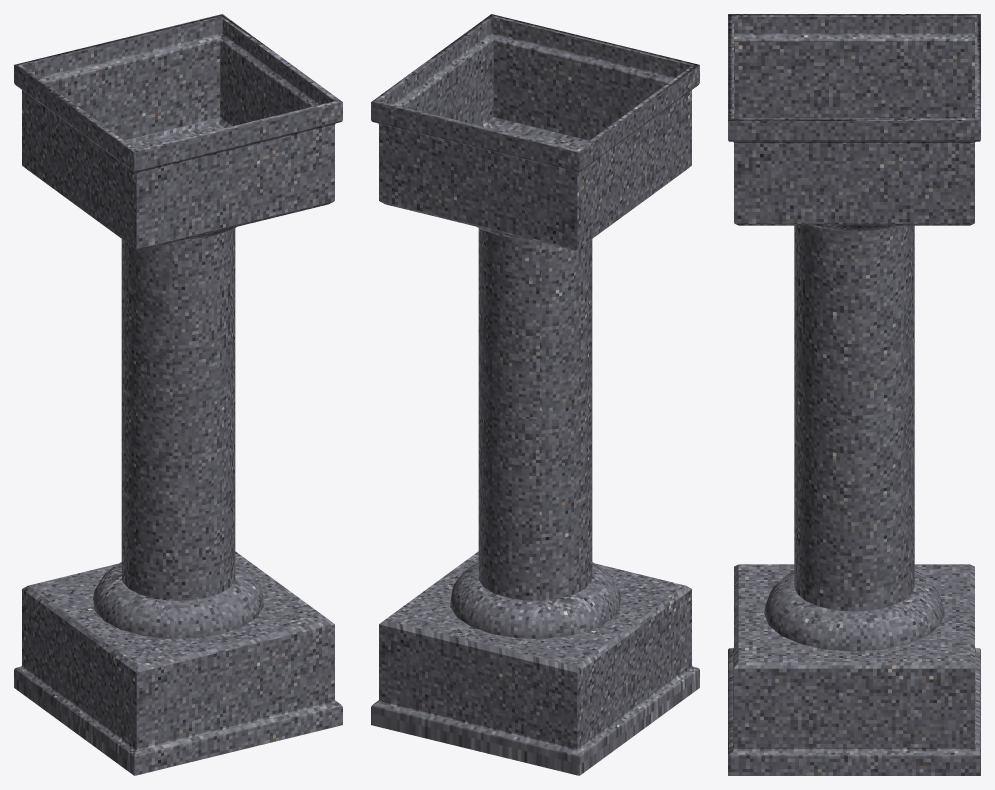
The model's file is pillar.fbx.
3 views of the same model, side by side, from view 1: azimuth 30°, elevation 25°; view 2: azimuth 150°, elevation 25°; view 3: azimuth 270°, elevation 25° (orthographic). The views are drawn at different scales.
Visible parts, largest first — view 1: pCube2, pCube1, pCylinder3, pCylinder4, pTorus1; view 2: pCube2, pCube1, pCylinder3, pCylinder4, pTorus1; view 3: pCube2, pCube1, pCylinder3, pCylinder4, pTorus1.
Boxes of the visible parts, left/top/right/bottom form: pCube2: left=14, top=14, right=342, bottom=250; pCube1: left=14, top=551, right=342, bottom=775; pCylinder3: left=121, top=395, right=235, bottom=600; pCylinder4: left=121, top=228, right=235, bottom=418; pTorus1: left=93, top=562, right=263, bottom=638; pCube2: left=371, top=14, right=699, bottom=250; pCube1: left=371, top=551, right=699, bottom=775; pCylinder3: left=478, top=395, right=592, bottom=600; pCylinder4: left=478, top=228, right=592, bottom=418; pTorus1: left=450, top=562, right=620, bottom=638; pCube2: left=728, top=14, right=980, bottom=225; pCube1: left=728, top=564, right=980, bottom=775; pCylinder3: left=794, top=396, right=914, bottom=611; pCylinder4: left=794, top=225, right=914, bottom=420; pTorus1: left=764, top=571, right=944, bottom=651.
Size of the model in its own units: 105 by 300 by 105.
